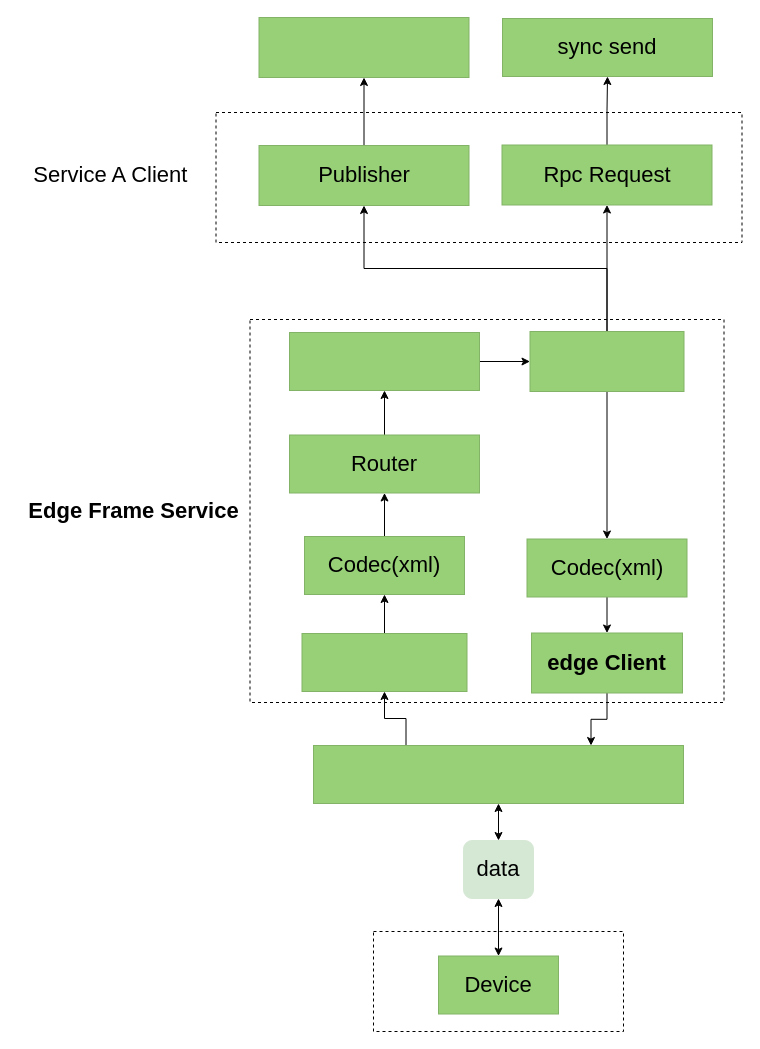
The diagram is 760 pixels wide and 1049 high, and some of its shapes have lost their labels. The box of each missing label's shape, as (x1, y1, x2, y2) in pixels:
async send: (258, 16, 469, 78)
edge Server: (301, 632, 467, 692)
Handler: (288, 332, 480, 390)
message proc: (529, 330, 684, 392)
Transport(Tcp/Udp): (312, 744, 684, 804)
